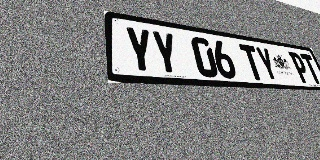0: (190, 36, 219, 78)
6: (210, 39, 238, 79)
P: (288, 51, 312, 83)
T: (239, 44, 266, 81), (300, 53, 320, 84)
Y: (124, 26, 156, 74), (150, 30, 181, 76), (254, 46, 280, 81)
